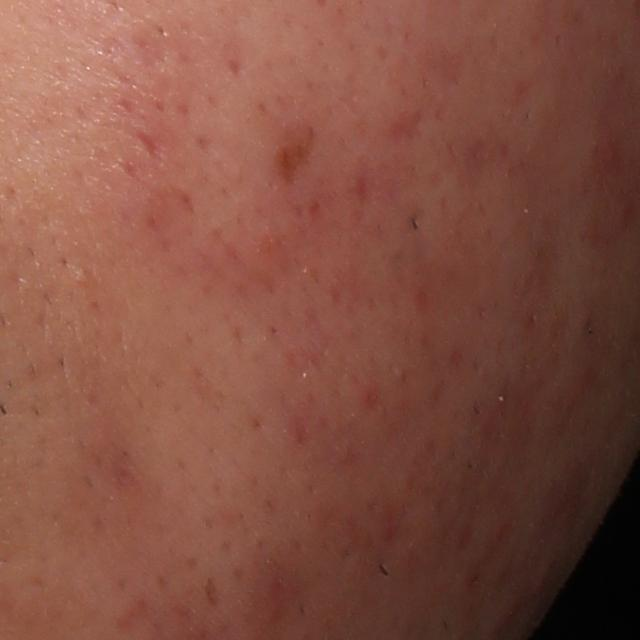atrophic_scar: (274, 125, 316, 187), (134, 127, 167, 164)
comedo: (71, 266, 92, 289)
